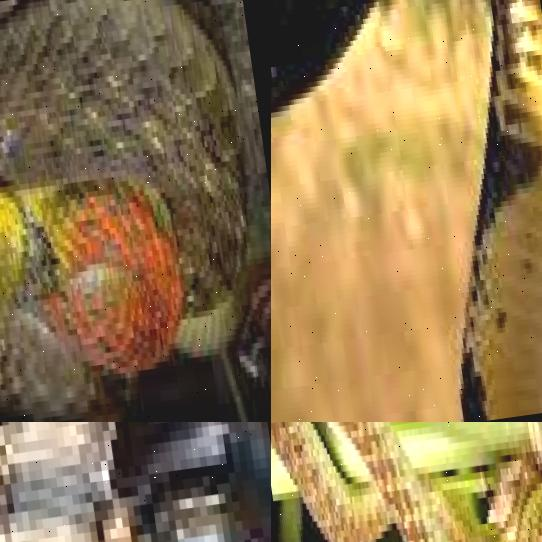snake: (0, 0, 271, 422), (271, 0, 542, 422), (0, 422, 271, 542), (271, 422, 542, 542)
